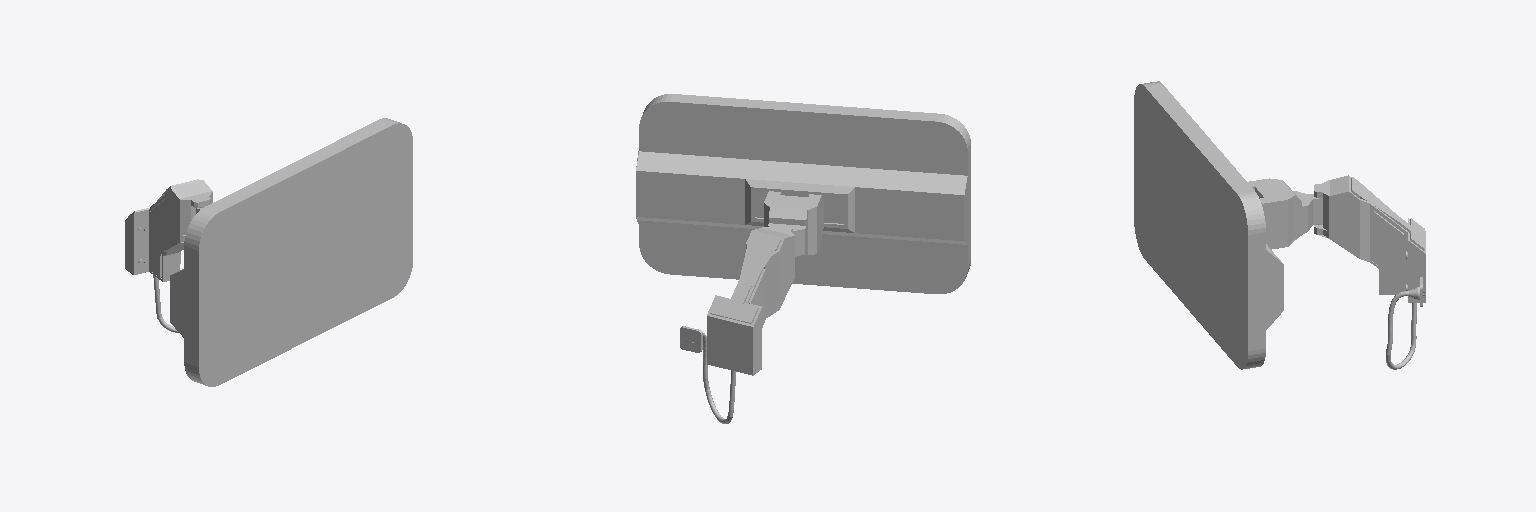
File: Monitor_new.obj
The picture shows the model from 3 angles: view 1: azimuth 30°, elevation 25°; view 2: azimuth 150°, elevation 25°; view 3: azimuth 270°, elevation 25°; orthographic projection.
Visible parts, largest first — view 1: BC-cutter.016_Mesh.057, Cube.007; view 2: BC-cutter.016_Mesh.057, Cube.007, Cube.010_Cube.004, BezierCurve_CUBezierCurve, Cube.009_Cube.033; view 3: BC-cutter.016_Mesh.057, Cube.007, Cube.010_Cube.004, BezierCurve_CUBezierCurve.
Boxes of the visible parts, x1,y1,x2,y2 form: BC-cutter.016_Mesh.057: [170, 118, 412, 386]; Cube.007: [125, 179, 212, 281]; BC-cutter.016_Mesh.057: [636, 94, 970, 293]; Cube.007: [707, 225, 794, 375]; Cube.010_Cube.004: [764, 191, 823, 256]; BezierCurve_CUBezierCurve: [702, 332, 735, 423]; Cube.009_Cube.033: [680, 326, 702, 352]; BC-cutter.016_Mesh.057: [1134, 81, 1283, 369]; Cube.007: [1314, 175, 1425, 302]; Cube.010_Cube.004: [1248, 178, 1322, 249]; BezierCurve_CUBezierCurve: [1386, 291, 1416, 369].
Bounding box in the file's own units: 1.72 × 1.37 × 1.53.